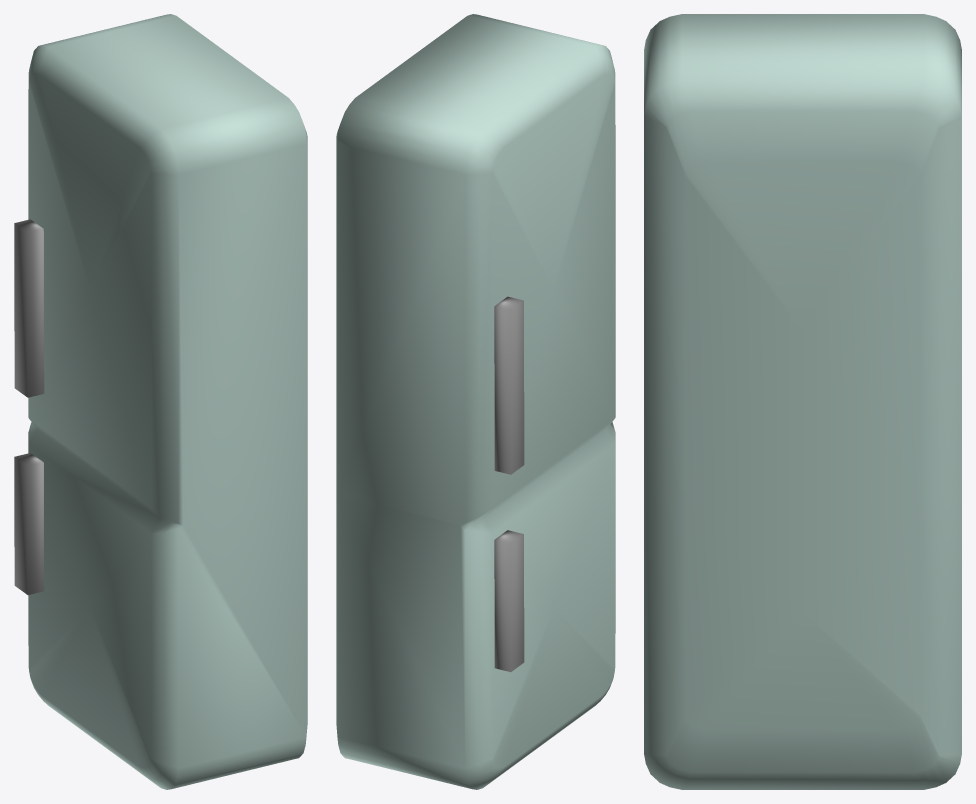
The model's file is nevera cocina.fbx.
The picture shows the model from 3 angles, left to right: view 1: azimuth 30°, elevation 25°; view 2: azimuth 150°, elevation 25°; view 3: azimuth 270°, elevation 25°; orthographic projection. The views are drawn at different scales.
Visible parts, largest first — view 1: nevera.001; view 2: nevera.001; view 3: nevera.001.
Boxes of the visible parts, x1=… form: nevera.001: x1=14, y1=14, x2=307, y2=789; nevera.001: x1=336, y1=14, x2=615, y2=789; nevera.001: x1=644, y1=14, x2=961, y2=789.
Bounding box in the file's own units: 306 × 1088 × 442.
